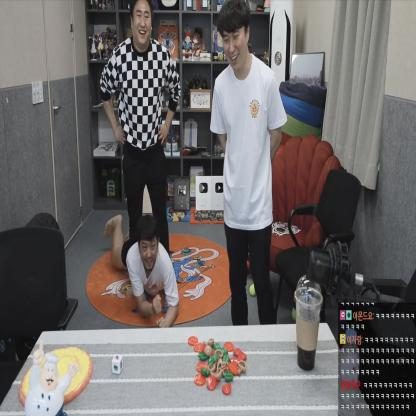streamer: (210, 0, 287, 325), (97, 0, 182, 256), (103, 214, 179, 326)
